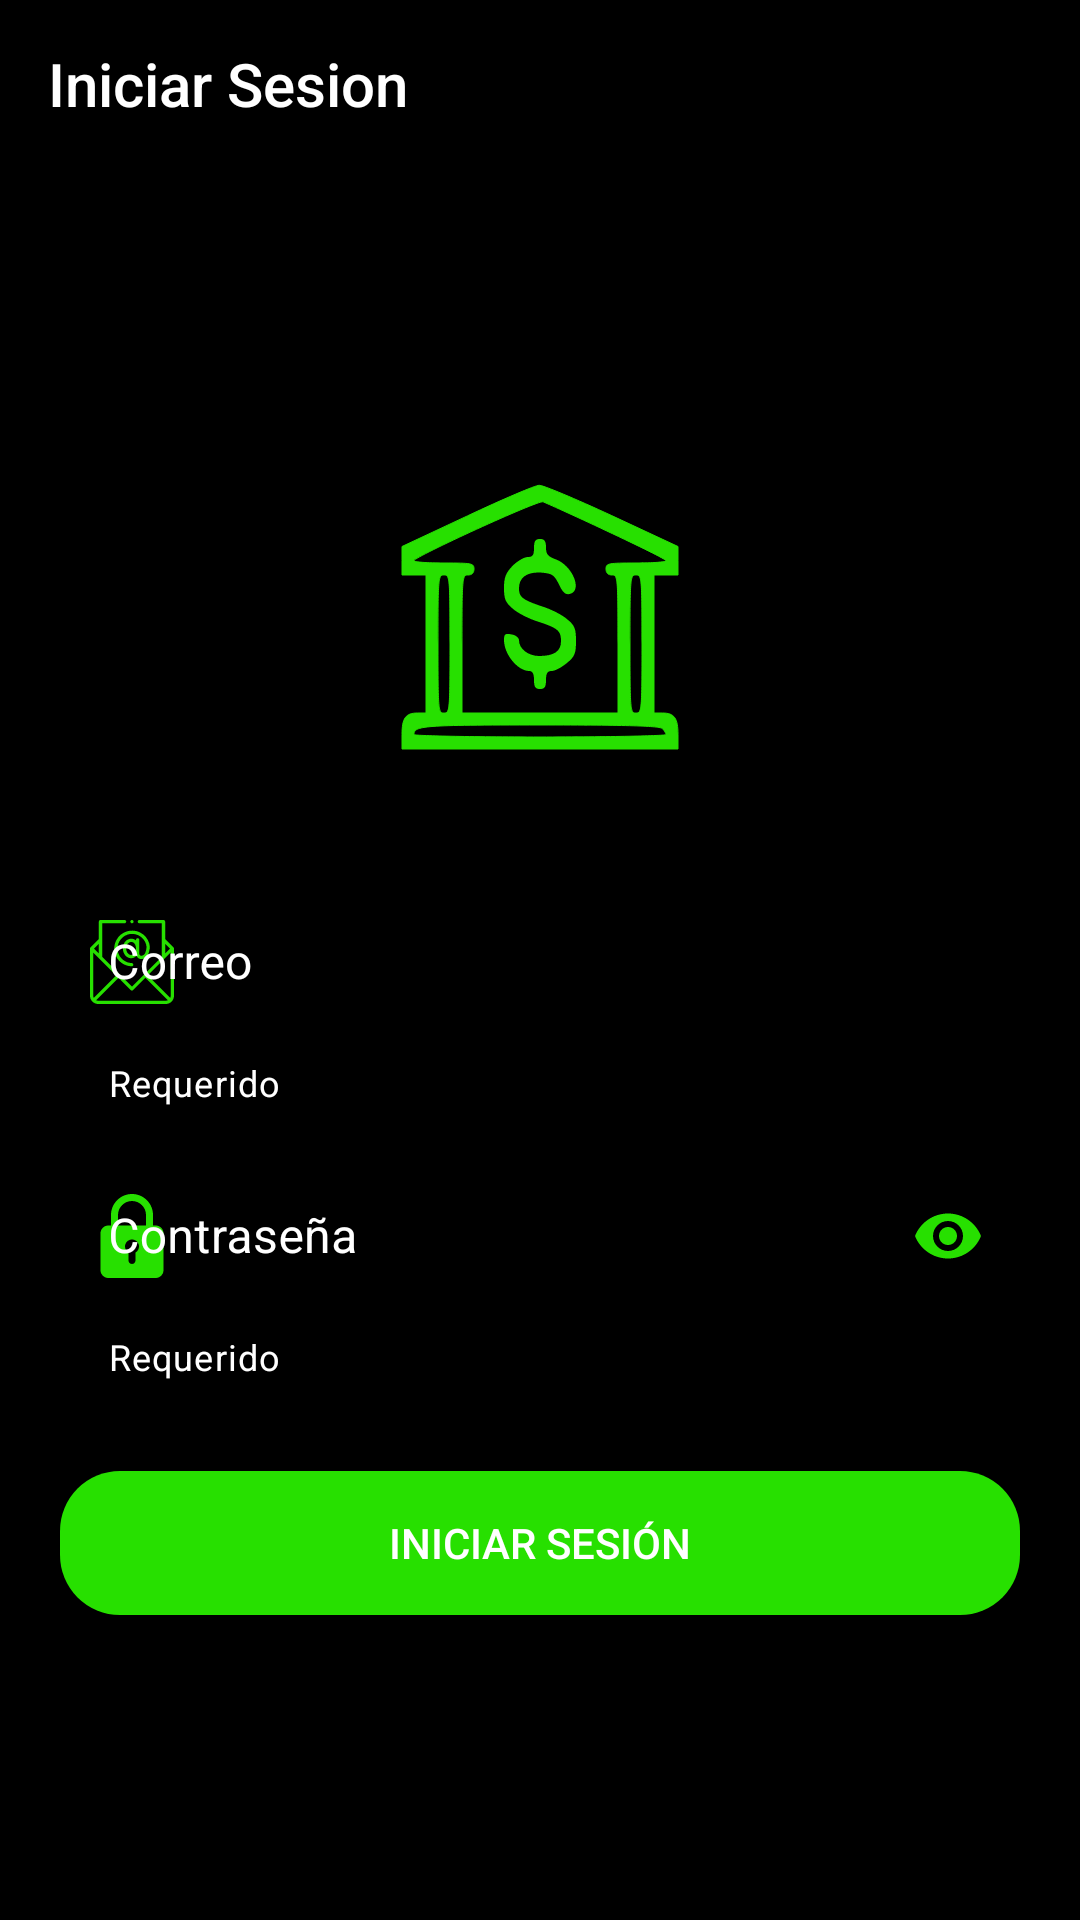

Where to tap for icons on this 1080 x 1920 app screen, as (x,y):
edificio del banco: (540,617)
